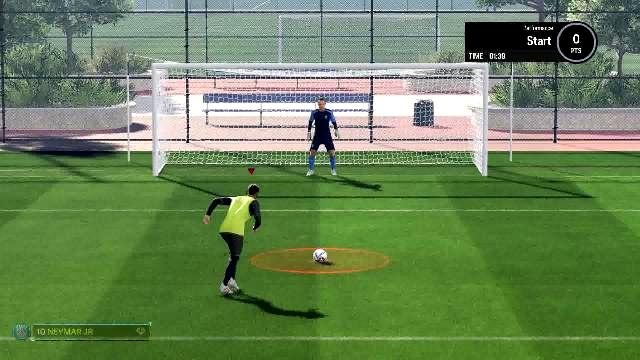bottom-left: (166, 134, 264, 178)
bottom-right: (370, 132, 472, 176)
center-down: (264, 130, 370, 176)
center-up: (264, 75, 368, 129)
circle: (249, 248, 389, 276)
football: (314, 250, 328, 262)
goalkeeper: (302, 97, 346, 179)
player: (199, 185, 265, 302)
top-left: (170, 75, 264, 132)
top-right: (372, 72, 478, 128)
